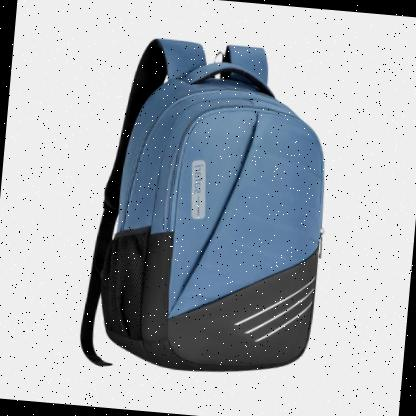bag: (69, 25, 349, 390)
